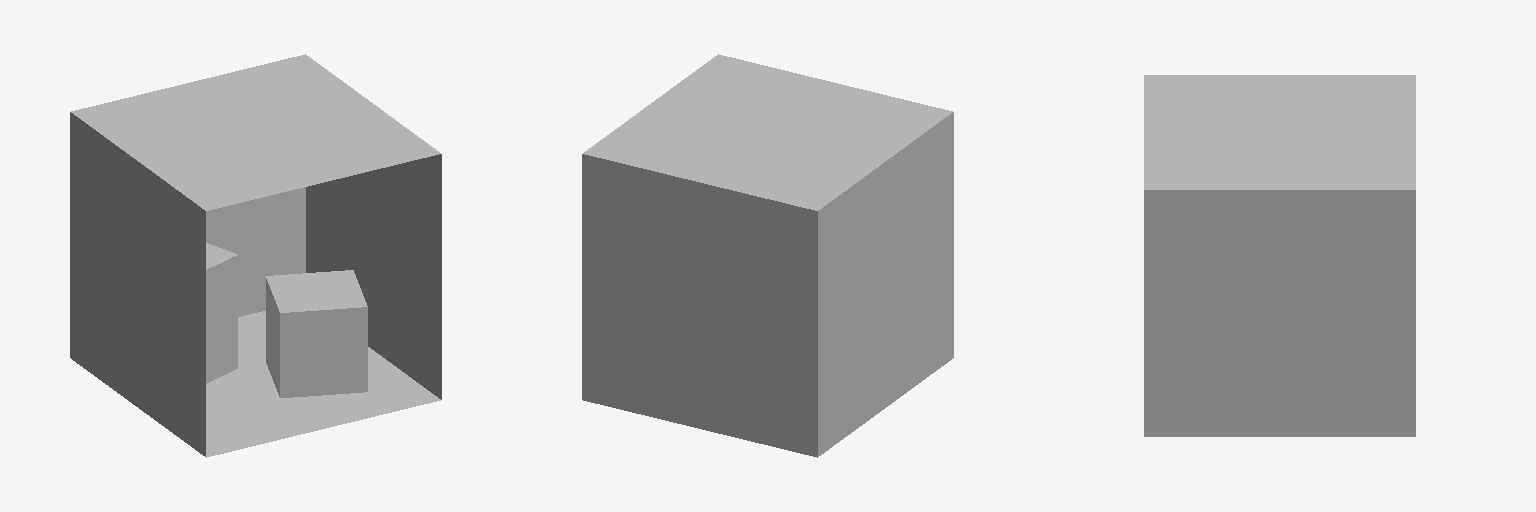
Rendered from cornell.obj.
3 views of the same model, side by side, from view 1: azimuth 30°, elevation 25°; view 2: azimuth 150°, elevation 25°; view 3: azimuth 270°, elevation 25° (orthographic).
Visible parts, largest first — view 1: 立方体.002_立方体.007, 立方体_立方体.003, 立方体.001_立方体.004; view 2: 立方体.002_立方体.007; view 3: 立方体.002_立方体.007.
Part boxes in pixels (x1,y1,x2,y2): 立方体.002_立方体.007: (70, 54, 441, 457); 立方体_立方体.003: (266, 270, 367, 397); 立方体.001_立方体.004: (206, 243, 237, 383); 立方体.002_立方体.007: (582, 54, 953, 457); 立方体.002_立方体.007: (1144, 75, 1415, 436).
Size of the model in its own units: 4 by 4 by 4.